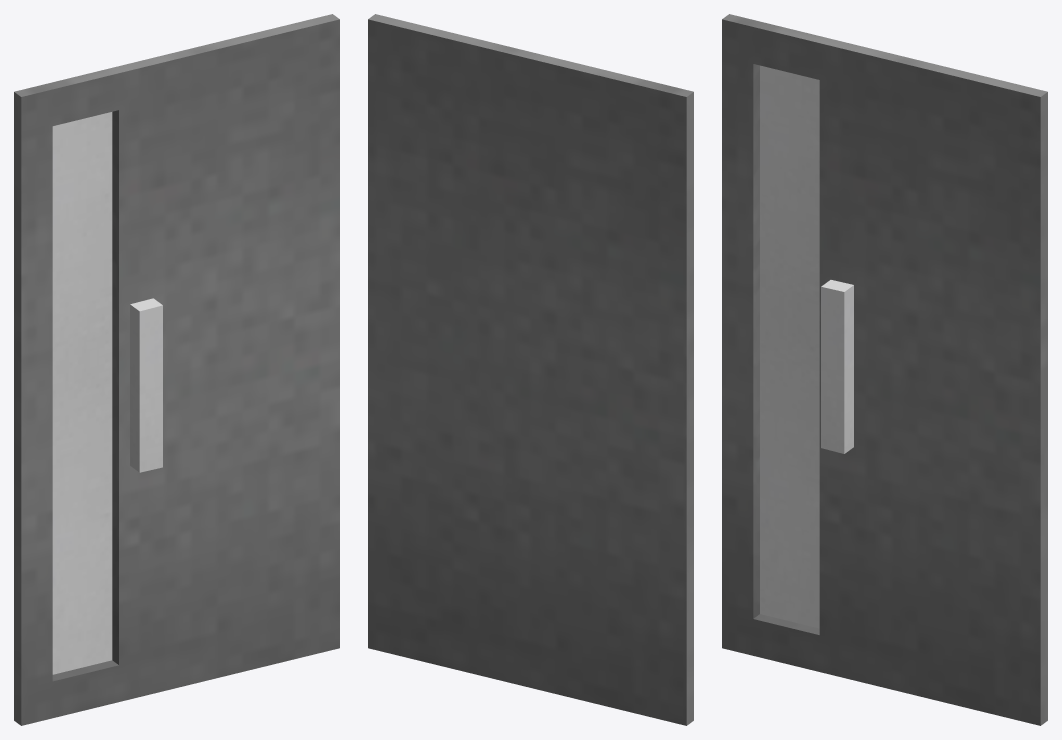
Rendered from Puerta edificio 1.fbx.
3 renders of one model, left to right at view 1: azimuth 30°, elevation 25°; view 2: azimuth 150°, elevation 25°; view 3: azimuth 330°, elevation 25°, orthographic.
Visible parts, largest first — view 1: pCube12; view 2: pCube12; view 3: pCube12.
Boxes of the visible parts, left/top/right/bottom form: pCube12: left=14, top=14, right=339, bottom=725; pCube12: left=368, top=14, right=693, bottom=725; pCube12: left=722, top=14, right=1047, bottom=725.
Size of the model in its own units: 126 by 237 by 11.62.
